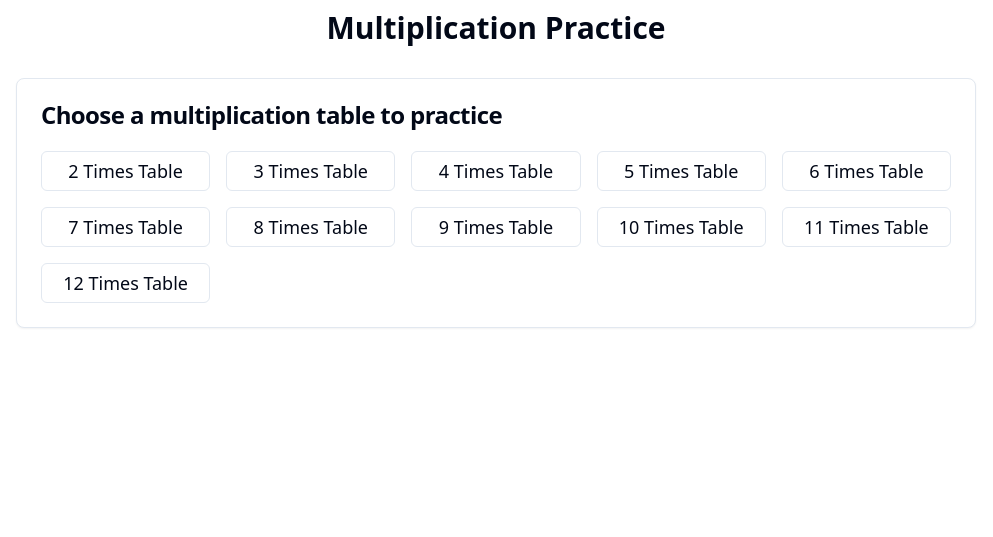
it: MultiplicationGame › Game Navigation › returns to table selection when back button is clicked
This screenshot has width=993, height=537.
Click the button "2 Times Table" at (126, 171), box [41,151,210,191]
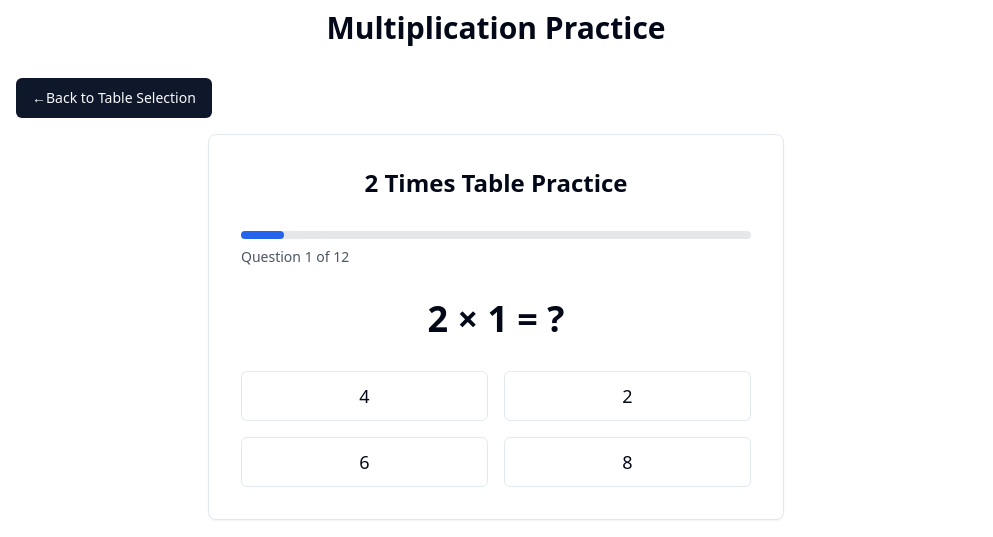
Click the button "← Back to Table Selection" at (114, 98), box [16,78,212,118]
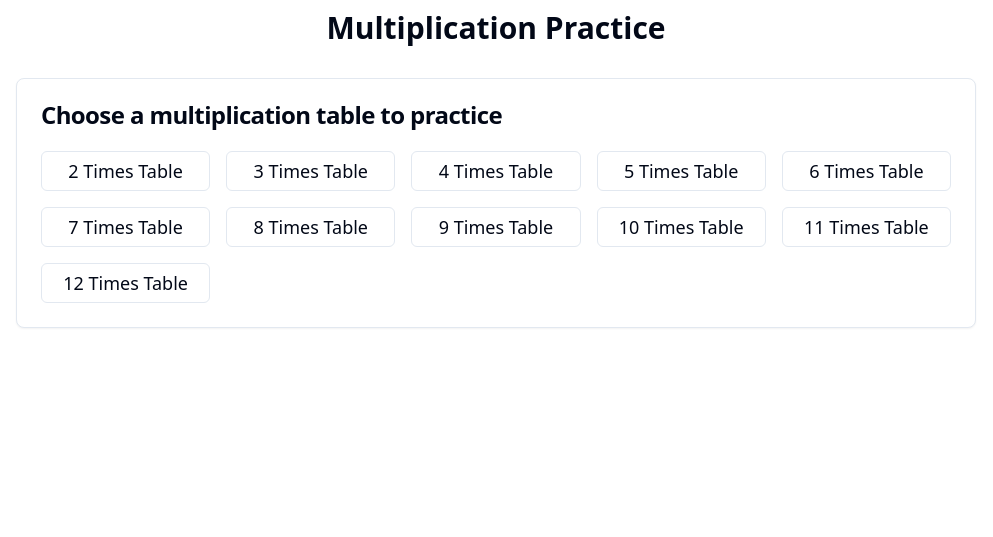
Expected: the heading "Choose a multiplication table to practice" is shown, [41,98,502,131]
